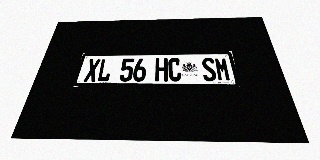5: (119, 58, 134, 82)
6: (132, 58, 147, 82)
C: (168, 58, 182, 81)
H: (155, 58, 168, 81)
L: (96, 59, 113, 82)
M: (214, 57, 232, 81)
S: (201, 58, 217, 81)
X: (83, 59, 101, 82)
